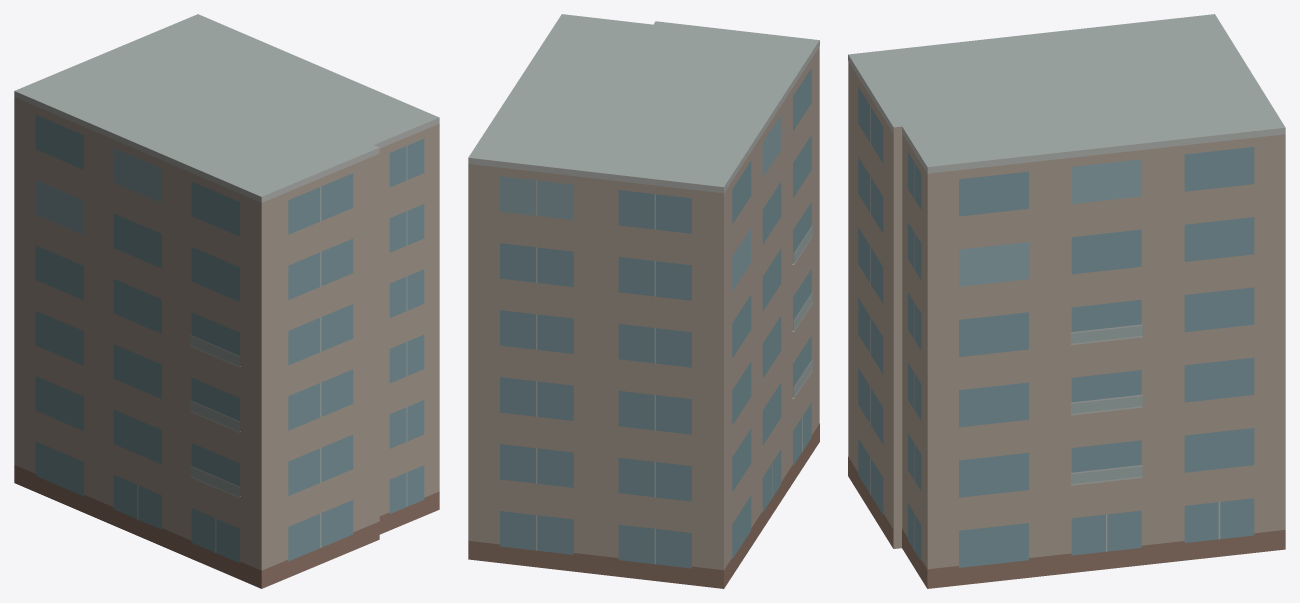
File: survey-upis-32966589.glb
3 renders of one model, left to right at view 1: azimuth 30°, elevation 25°; view 2: azimuth 150°, elevation 25°; view 3: azimuth 270°, elevation 25°, orthographic. The views are drawn at different scales.
Parts seen in each view (by area): view 1: survey-upis-32966589.tmp; view 2: survey-upis-32966589.tmp; view 3: survey-upis-32966589.tmp.
Boxes of the visible parts, bbox=[...] form: survey-upis-32966589.tmp: bbox=[14, 14, 439, 588]; survey-upis-32966589.tmp: bbox=[468, 14, 819, 588]; survey-upis-32966589.tmp: bbox=[848, 14, 1285, 588].
Size of the model in its own units: 12.44 by 15.95 by 15.01.
